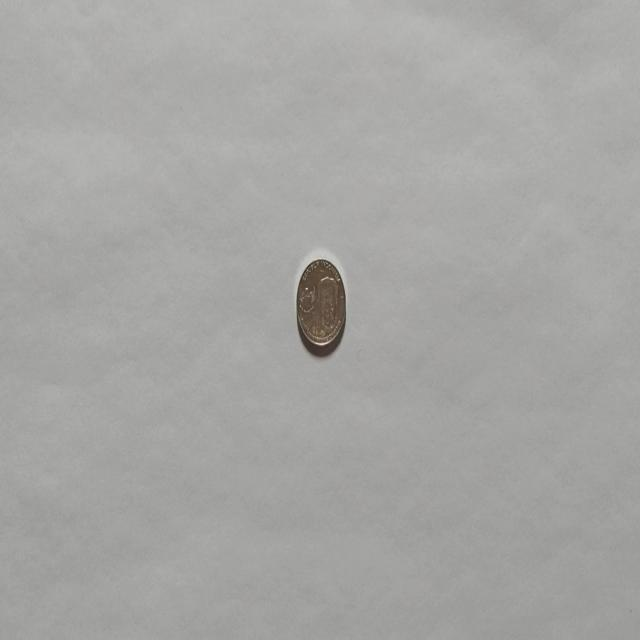seratus rupiah: (296, 256, 346, 350)
